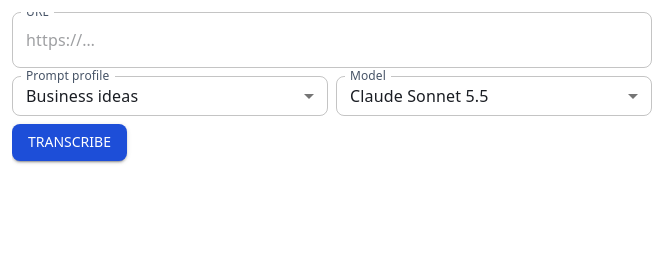
Scenario: HomePage › shows a failed submit and lets the user try again
The image size is (669, 280).
In the field labelled "URL": [332, 40] box [12,12,652,68], type "https://www.youtube.com/watch?v=cFoaK1OQRhw"
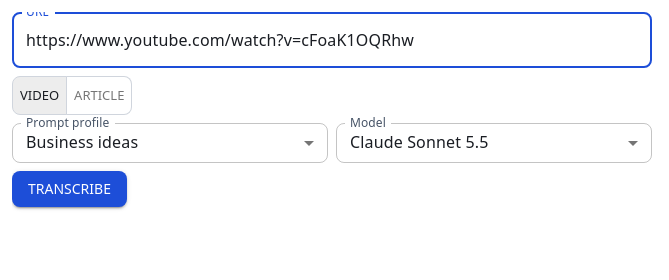
Click the button "Transcribe": [70, 189] box [12,171,127,207]
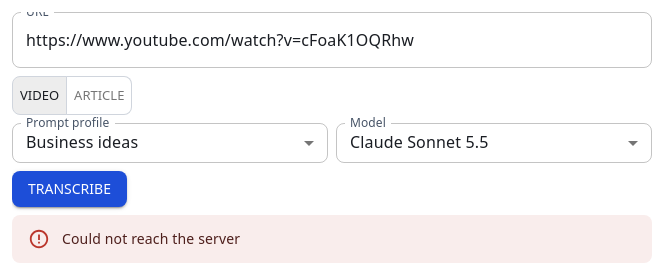
Expected: the message reads "Could not reach the server", [62,229,240,248]
